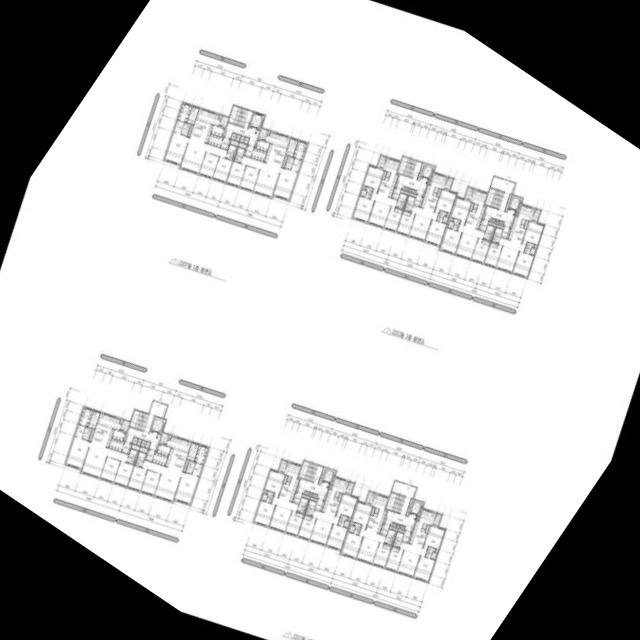background: (0, 0, 640, 640)
space_bedroom: (174, 471, 199, 504), (273, 167, 298, 200), (65, 436, 90, 468), (164, 132, 189, 164), (264, 469, 285, 497), (326, 524, 348, 550), (341, 532, 363, 558), (512, 251, 534, 277), (425, 219, 447, 245), (352, 196, 374, 222), (363, 165, 384, 192), (450, 197, 471, 224), (414, 555, 435, 581), (254, 500, 275, 526), (352, 501, 372, 528), (336, 493, 358, 517), (423, 525, 445, 549), (440, 228, 461, 253), (100, 456, 120, 482), (127, 465, 147, 491), (212, 156, 232, 182), (435, 189, 457, 212), (522, 221, 544, 244), (141, 470, 161, 495), (113, 461, 133, 486), (199, 152, 219, 177), (226, 161, 246, 186), (240, 165, 259, 191), (471, 238, 490, 263), (397, 210, 415, 235), (484, 242, 502, 267), (285, 510, 303, 535), (373, 542, 391, 567), (385, 546, 403, 571), (384, 206, 402, 231), (298, 515, 316, 539)
space_dressroom: (194, 444, 209, 464), (177, 102, 192, 122), (78, 407, 93, 426), (293, 140, 307, 159)
space_elevator: (150, 416, 166, 434), (249, 112, 264, 129), (322, 468, 336, 484), (508, 195, 522, 211), (421, 164, 435, 179), (410, 500, 423, 515)
space_elevator_hall: (125, 401, 167, 450), (384, 480, 416, 531), (483, 176, 515, 226), (396, 161, 428, 195), (297, 465, 329, 499), (224, 123, 259, 146)
space_front: (152, 451, 168, 465), (251, 147, 266, 161), (109, 438, 124, 451), (208, 134, 223, 147), (501, 226, 511, 238), (145, 449, 155, 461), (292, 491, 302, 503), (402, 530, 412, 542), (244, 145, 254, 157), (391, 187, 401, 199), (122, 442, 132, 453), (479, 219, 488, 231), (315, 499, 324, 511), (380, 523, 389, 535), (221, 137, 230, 149), (414, 194, 423, 206)
space_kitchen: (421, 172, 448, 212), (508, 204, 535, 244), (322, 477, 349, 516), (409, 509, 436, 548), (190, 108, 220, 143), (91, 412, 121, 447), (165, 435, 191, 472), (264, 131, 290, 168), (278, 461, 301, 501), (366, 493, 389, 533), (377, 157, 400, 197), (465, 189, 487, 229), (112, 429, 125, 441), (157, 444, 170, 455), (256, 140, 269, 151), (211, 125, 224, 136)
space_living_room: (241, 155, 281, 197), (81, 442, 128, 477), (180, 138, 227, 173), (142, 460, 182, 501), (455, 224, 485, 259), (310, 509, 339, 545), (496, 237, 525, 272), (409, 205, 438, 240), (368, 192, 397, 227), (357, 528, 386, 563), (269, 496, 298, 531), (397, 541, 426, 576)
space_other: (187, 442, 199, 461), (88, 410, 100, 429), (187, 106, 199, 124), (286, 138, 298, 156), (505, 195, 511, 211), (418, 163, 424, 179), (406, 499, 412, 515), (319, 467, 325, 483), (89, 429, 94, 441), (183, 459, 188, 471), (188, 124, 193, 136), (282, 155, 287, 167), (131, 444, 139, 450), (238, 142, 246, 148), (136, 438, 142, 445), (239, 135, 245, 142), (488, 221, 496, 226), (397, 528, 405, 533), (139, 447, 147, 452), (283, 475, 288, 483), (389, 525, 397, 530), (310, 496, 318, 501), (230, 140, 238, 145), (235, 134, 241, 140), (401, 189, 408, 194), (145, 441, 150, 448), (371, 507, 375, 515), (338, 493, 342, 501), (425, 525, 429, 533), (496, 224, 504, 228), (437, 188, 441, 196), (524, 220, 528, 228), (382, 171, 386, 179), (141, 440, 146, 446), (132, 437, 137, 443), (244, 137, 249, 143), (231, 133, 236, 139), (409, 192, 416, 196), (302, 494, 309, 498), (470, 203, 474, 210), (534, 244, 538, 248), (392, 522, 396, 526), (313, 493, 317, 497), (350, 521, 354, 525), (495, 219, 499, 223), (304, 491, 309, 494), (400, 525, 405, 528), (267, 130, 270, 135), (403, 186, 408, 189), (499, 221, 504, 224), (449, 217, 453, 220), (408, 188, 412, 191), (168, 435, 171, 439), (396, 524, 400, 527), (263, 489, 266, 493), (435, 549, 439, 552), (309, 492, 313, 495), (491, 218, 495, 221), (447, 212, 450, 216), (412, 189, 416, 192), (348, 517, 351, 520), (362, 185, 365, 188), (329, 484, 331, 487), (416, 516, 419, 518), (515, 212, 518, 214), (428, 180, 430, 182)
space_outdoor_room: (159, 432, 169, 444), (258, 128, 268, 140), (377, 155, 386, 168), (278, 459, 287, 472), (433, 513, 442, 526), (444, 177, 453, 190), (120, 420, 130, 431), (219, 115, 228, 127), (465, 187, 473, 200), (532, 209, 540, 222), (346, 481, 354, 494), (366, 491, 374, 504)
space_staircase: (228, 105, 253, 127), (398, 156, 417, 177), (386, 492, 405, 513), (485, 188, 504, 208), (130, 410, 149, 430), (299, 461, 318, 481)
space_toilet: (404, 195, 415, 211), (393, 531, 404, 547), (135, 451, 146, 467), (492, 227, 503, 243), (225, 144, 236, 160), (297, 497, 308, 512), (396, 193, 407, 208), (234, 147, 245, 162), (484, 224, 494, 240), (192, 462, 203, 476), (291, 158, 302, 172), (385, 529, 395, 544), (127, 449, 137, 464), (306, 500, 316, 515), (75, 424, 85, 438), (425, 546, 436, 558), (174, 120, 184, 133), (437, 210, 447, 221), (338, 515, 348, 526), (524, 242, 534, 253), (353, 522, 362, 534), (266, 490, 274, 503), (452, 218, 460, 230), (365, 186, 373, 198), (82, 432, 90, 440), (187, 460, 195, 468), (183, 122, 191, 130), (84, 427, 92, 434), (185, 466, 193, 473), (286, 156, 294, 163), (181, 128, 189, 135), (284, 162, 292, 169), (262, 493, 268, 501), (349, 525, 355, 533), (529, 247, 535, 255), (442, 215, 448, 223), (448, 221, 454, 228), (343, 520, 349, 527), (361, 189, 367, 196), (431, 552, 436, 559)
